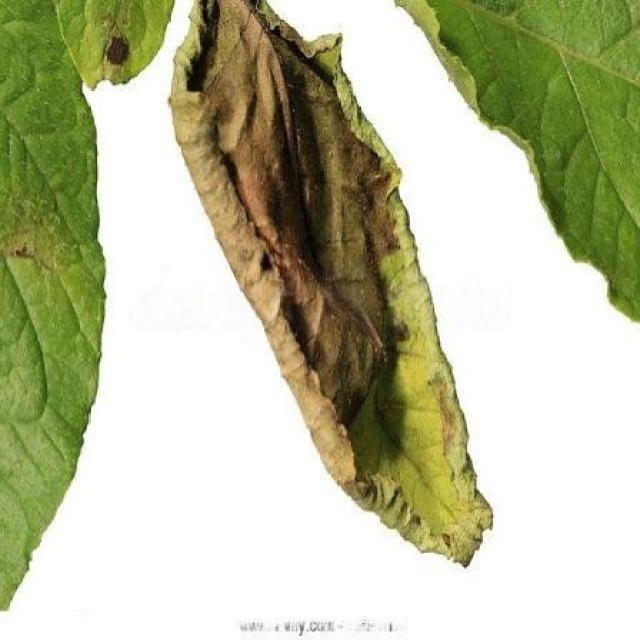Late Blight: (164, 0, 497, 574)
